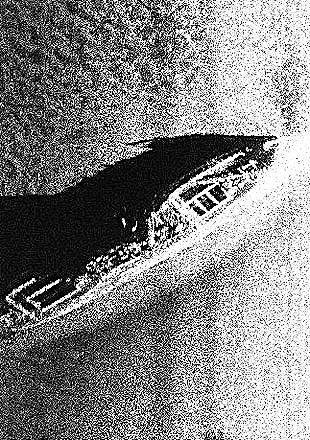ship: (1, 133, 306, 333)
